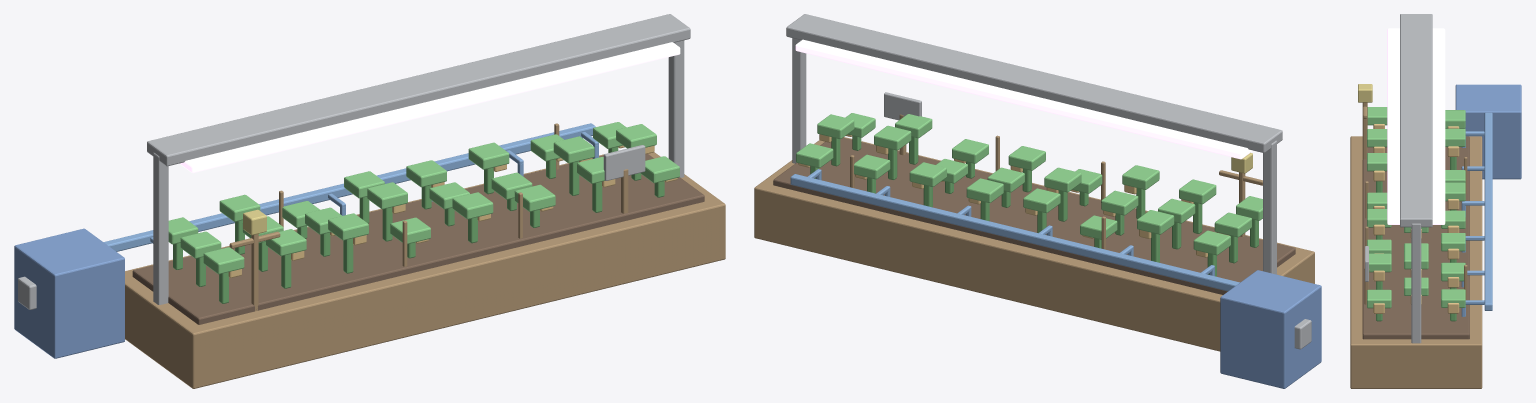
The model's file is грядка.glb.
The picture shows the model from 3 angles, left to right: view 1: azimuth 30°, elevation 25°; view 2: azimuth 150°, elevation 25°; view 3: azimuth 270°, elevation 25°; orthographic projection. The views are drawn at different scales.
Parts seen in each view (by area): view 1: грядка, Lamp_Mesh, Plants_Mesh, грядка.001, Fruit_Mesh; view 2: грядка, Lamp_Mesh, Plants_Mesh, грядка.001, Fruit_Mesh; view 3: грядка, Lamp_Mesh, Plants_Mesh, грядка.001, Fruit_Mesh.
Boxes of the visible parts, x1,y1,x2,y2 form: грядка: (125,123,725,388); Lamp_Mesh: (147,14,690,304); Plants_Mesh: (168,122,679,303); грядка.001: (14,123,598,358); Fruit_Mesh: (228,145,677,277); грядка: (754,92,1314,351); Lamp_Mesh: (786,14,1282,274); Plants_Mesh: (796,113,1262,276); грядка.001: (790,169,1321,388); Fruit_Mesh: (798,134,1228,257); грядка: (1350,84,1482,388); Lamp_Mesh: (1387,14,1445,343); Plants_Mesh: (1367,107,1465,321); грядка.001: (1455,84,1521,316); Fruit_Mesh: (1373,124,1459,313).
Size of the model in its own units: 6.9 by 2.26 by 2.08.
